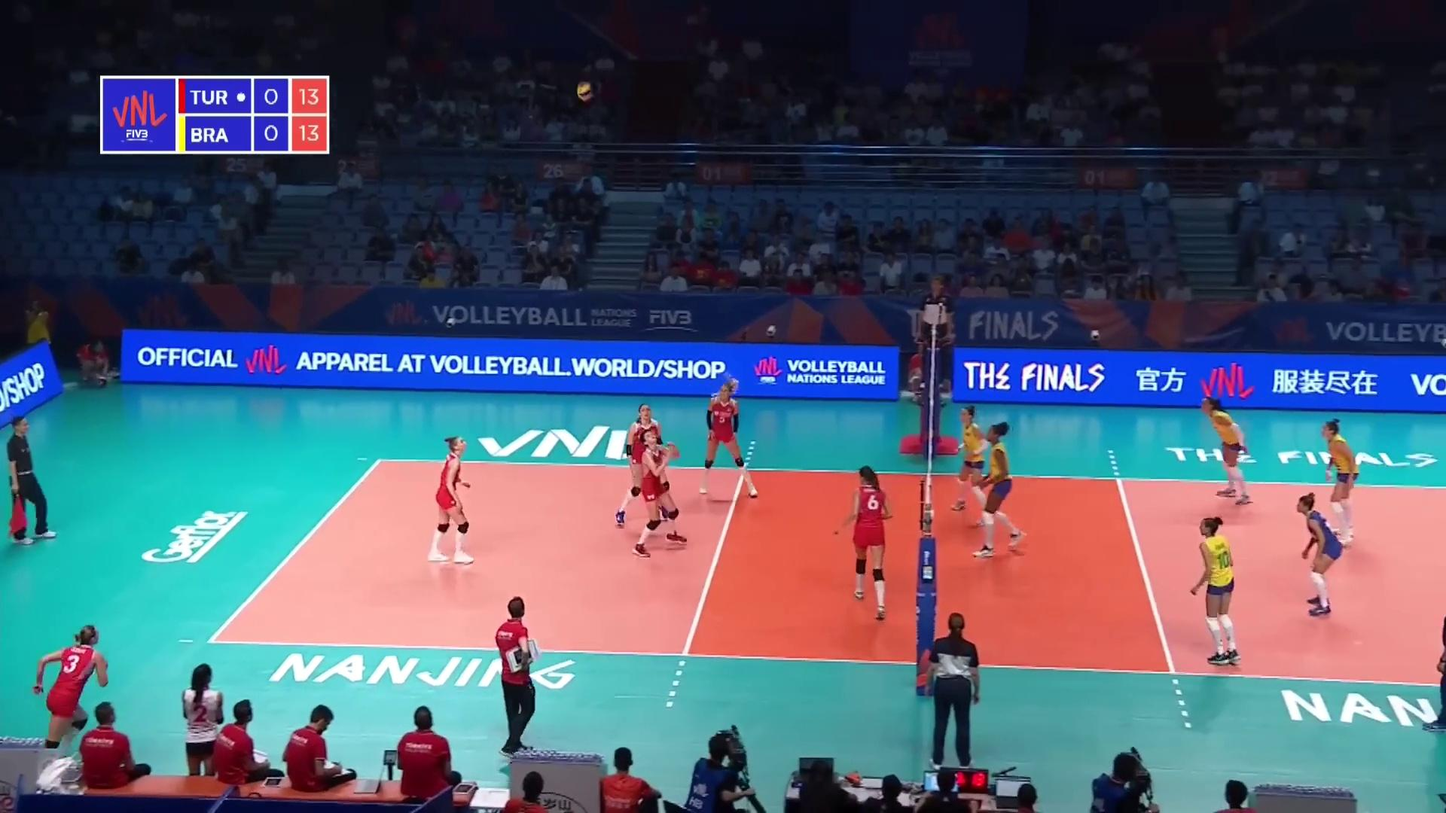player: (30, 624, 108, 763), (838, 468, 890, 620), (1195, 518, 1243, 660), (700, 380, 756, 501), (621, 405, 675, 524), (979, 425, 1028, 556), (633, 432, 686, 552), (1294, 495, 1343, 616), (431, 434, 474, 565), (1199, 397, 1252, 502), (1320, 421, 1359, 543), (953, 406, 994, 512)
refree: (925, 612, 983, 768), (5, 415, 56, 544), (917, 276, 952, 397)
